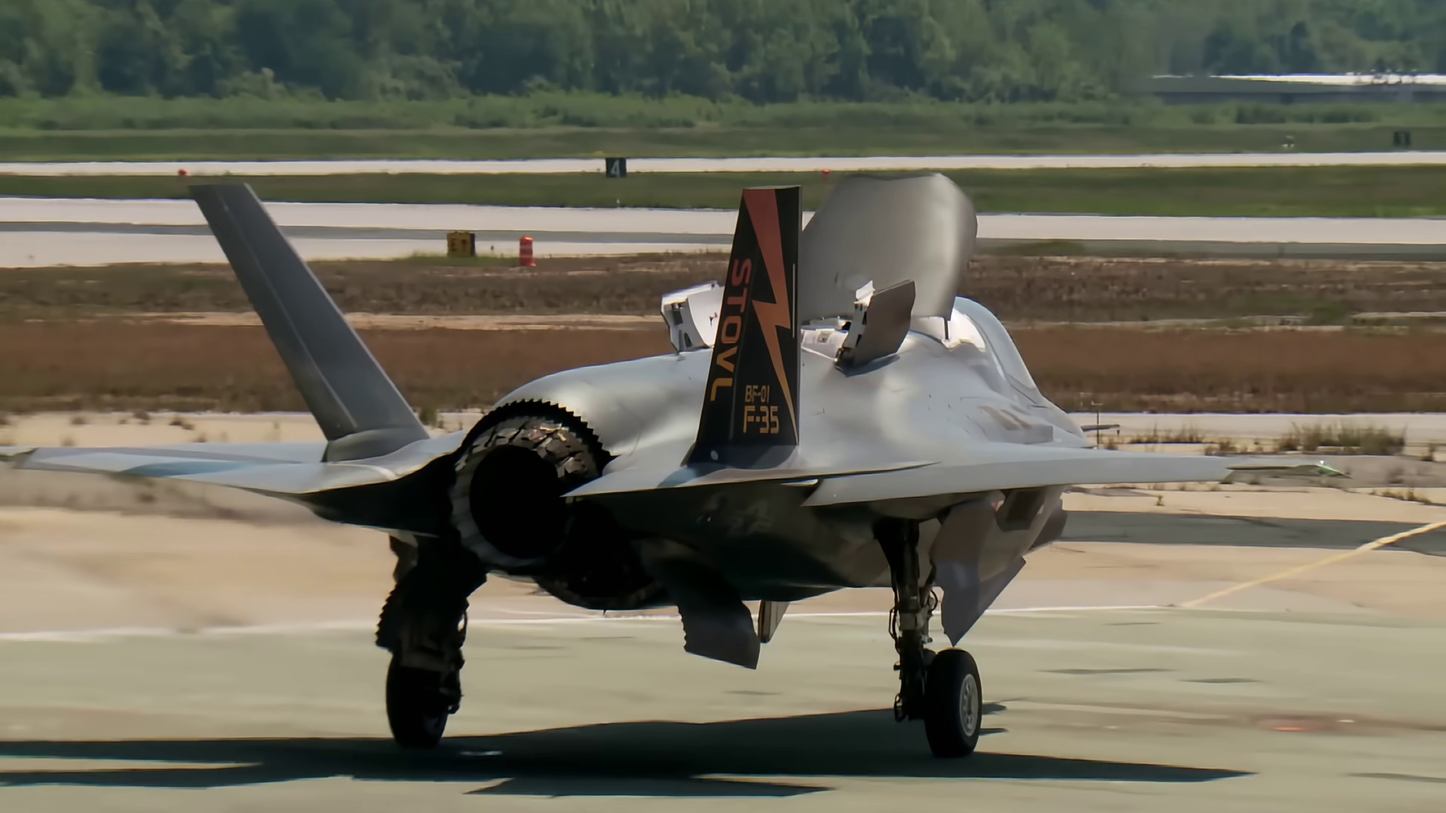F35: (5, 160, 1353, 760)
